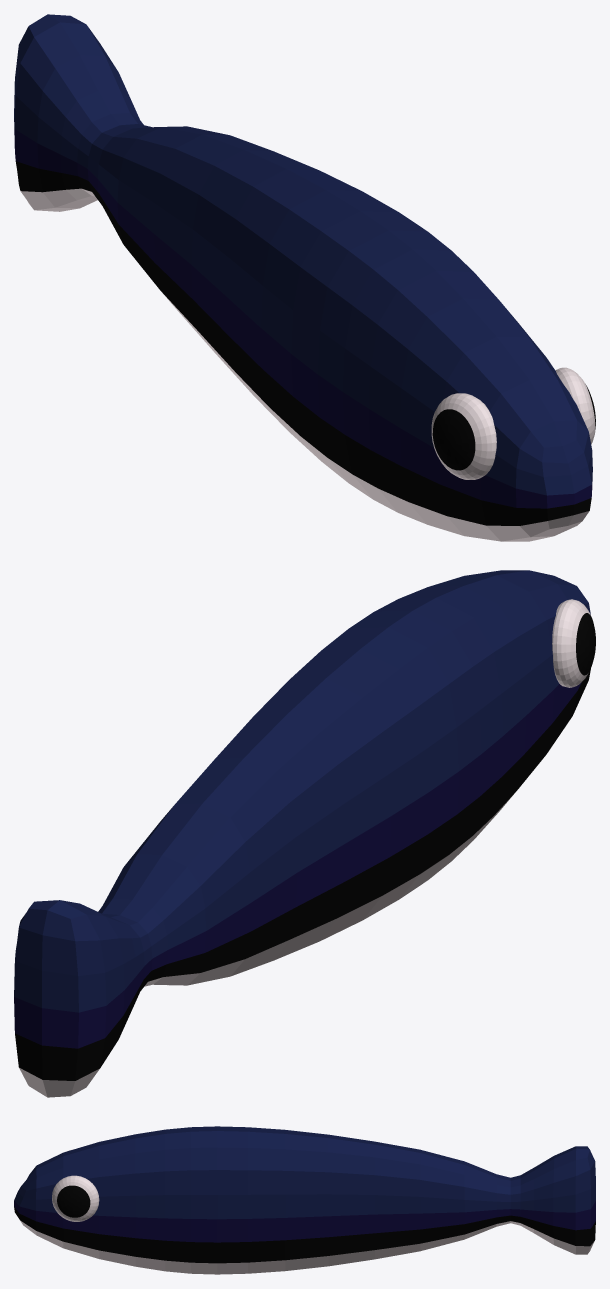
The model's file is chovy.glb.
3 views of the same model, one above another, from view 1: azimuth 30°, elevation 25°; view 2: azimuth 150°, elevation 25°; view 3: azimuth 270°, elevation 25° (orthographic). The views are drawn at different scales.
Parts seen in each view (by area): view 1: chovy; view 2: chovy; view 3: chovy.
Boxes of the visible parts, x1,y1,x2,y2 form: chovy: (14,14,595,541); chovy: (14,570,595,1097); chovy: (14,1126,595,1274).
Size of the model in its own units: 3.82 by 6.32 by 24.01.
